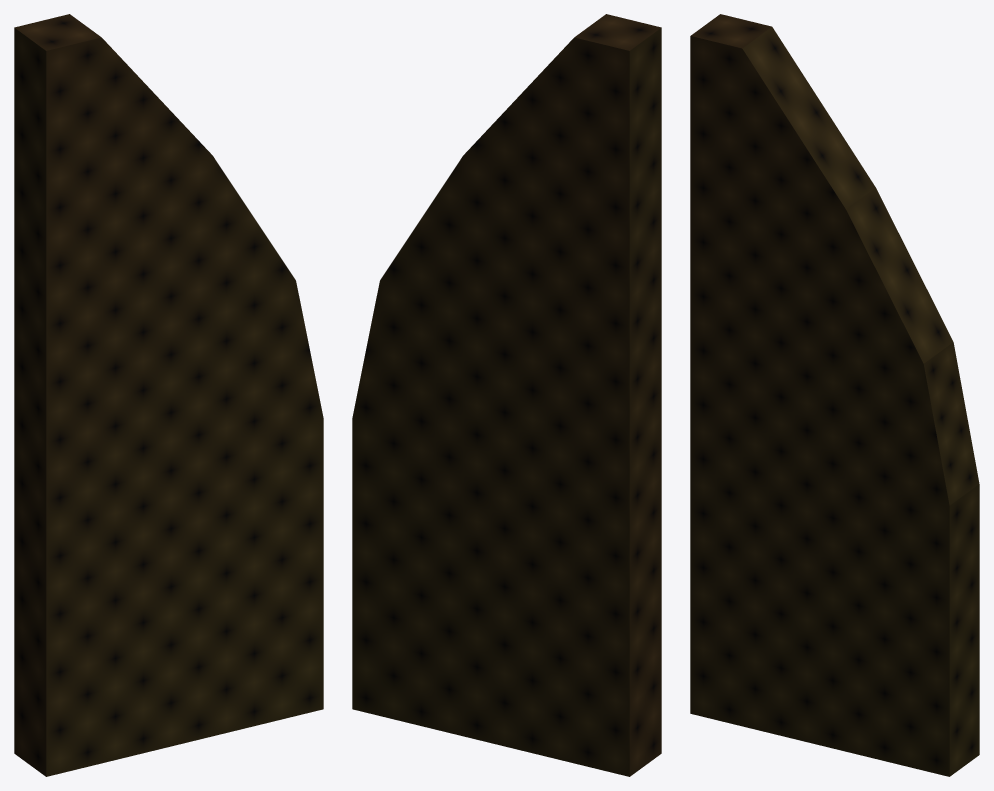
The model's file is key_door1.fbx.
3 views of the same model, side by side, from view 1: azimuth 30°, elevation 25°; view 2: azimuth 150°, elevation 25°; view 3: azimuth 330°, elevation 25° (orthographic). The views are drawn at different scales.
Parts seen in each view (by area): view 1: Plane.019; view 2: Plane.019; view 3: Plane.019.
Part boxes in pixels (box(x1,y1,x2,y2)): Plane.019: box(14, 14, 323, 776); Plane.019: box(352, 14, 661, 776); Plane.019: box(690, 14, 979, 776).
Bounding box in the file's own units: 100 × 250 × 20.
